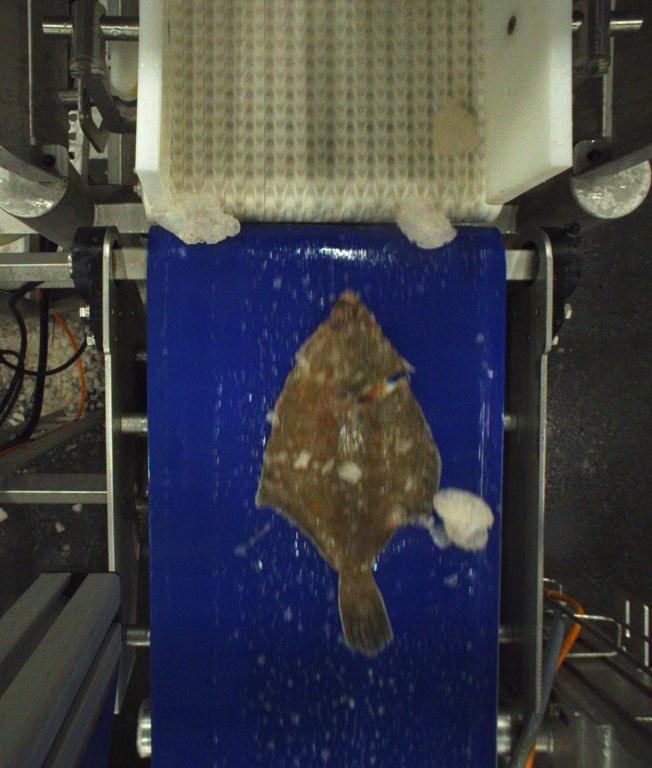PLE: (259, 290, 445, 651)
